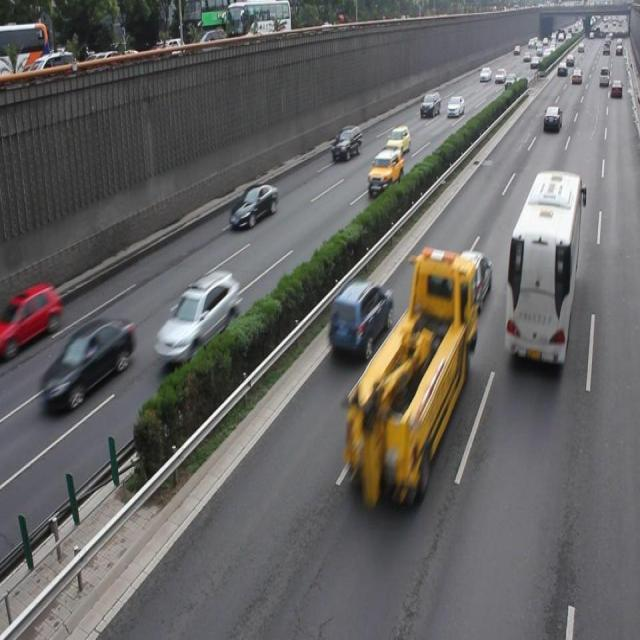bus: (343, 246, 475, 508)
car: (40, 316, 134, 412), (153, 270, 240, 362), (328, 280, 392, 358), (0, 281, 60, 347), (451, 248, 491, 314), (230, 182, 278, 228), (367, 148, 403, 197)
truck: (331, 122, 362, 160)
van: (504, 170, 580, 365)
